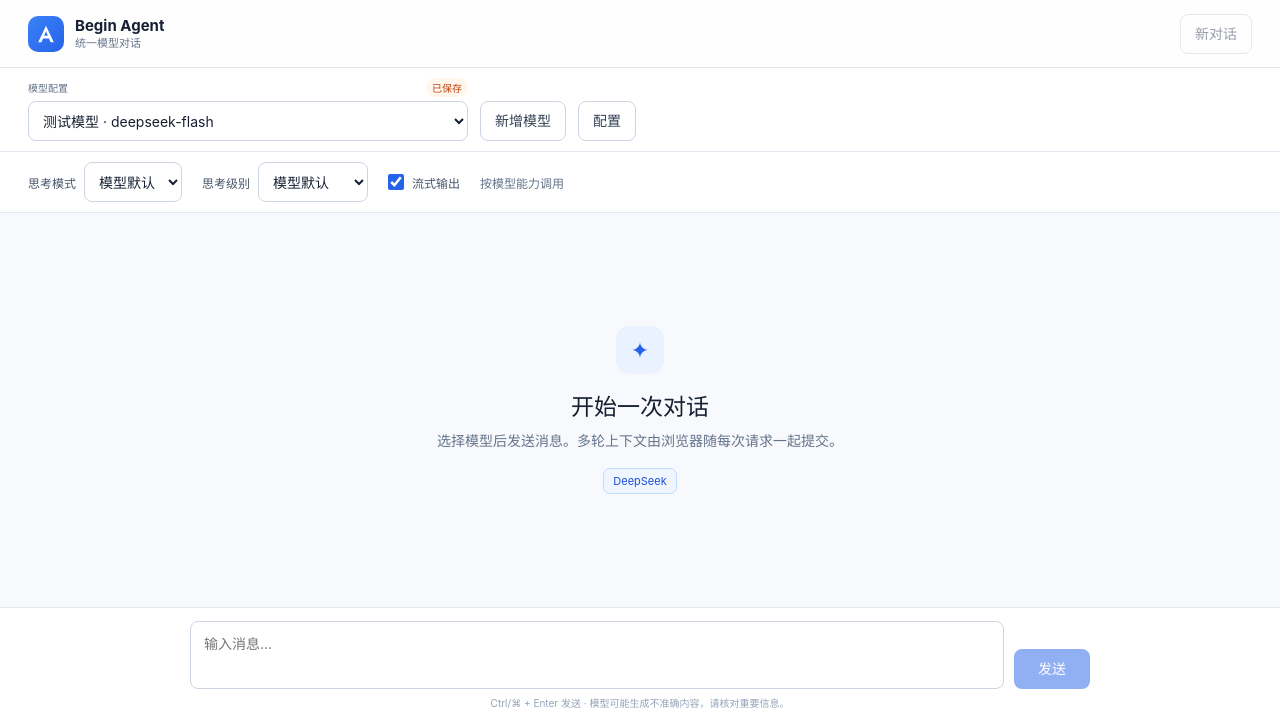
Scenario: page interaction states › retains partial output and visibly marks length
This screenshot has width=1280, height=720.
Type "length" into the text box with placeholder "输入消息…" at (597, 655), box [190,621,1004,689]
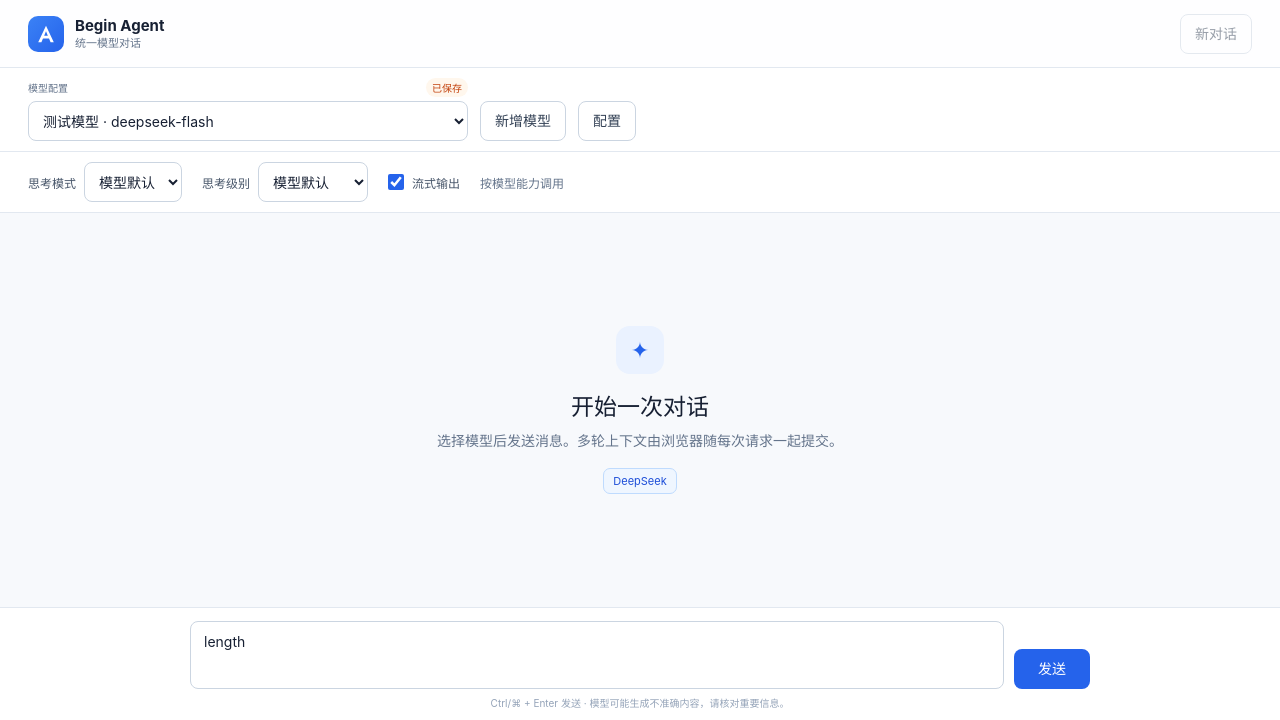
Click the button "发送" at (1052, 669), box [1014,649,1090,689]
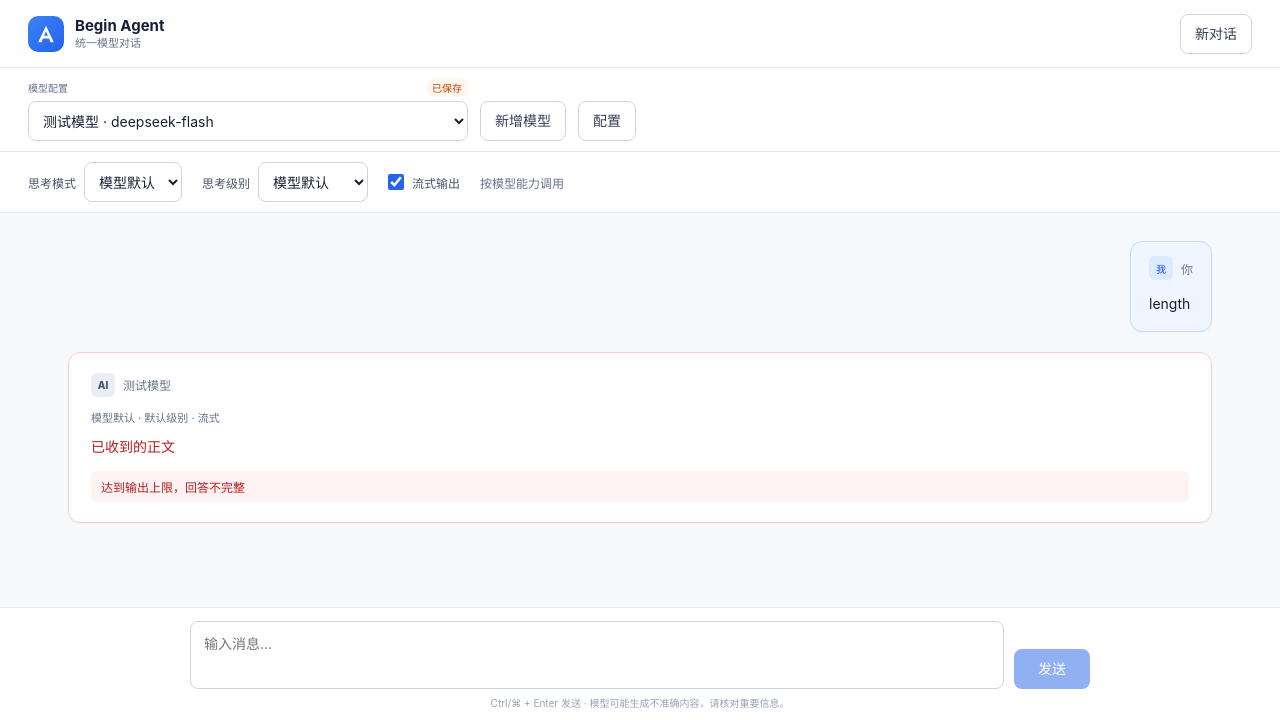
Result: the element with class "assistant" shows "已收到的正文" at [91,438,175,454]
Result: the text "达到输出上限，回答不完整" is shown at [91,471,1189,502]
